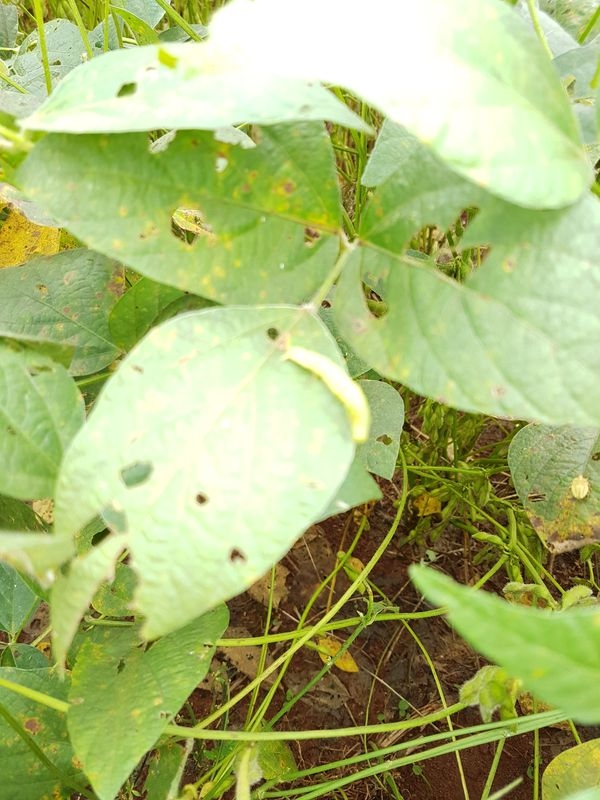Anticarsia_gemmatalis: (269, 331, 385, 455)
Euschistus_heros_ninfa: (557, 462, 598, 511)
